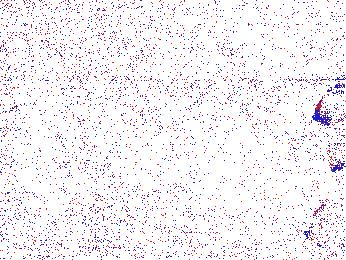flame jellyfish: (314, 86, 346, 171), (87, 198, 139, 248), (305, 202, 346, 249)
